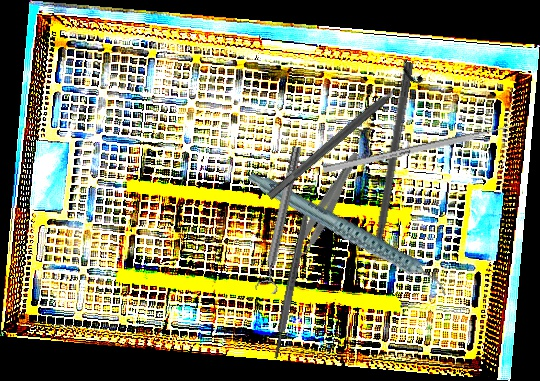Fixation Ring: (258, 58, 426, 208), (252, 144, 311, 295)
Handpiece: (245, 136, 451, 334)
Pusher: (322, 119, 527, 175), (364, 61, 415, 281)
Scalpel Handle: (271, 208, 312, 360)
Tissue Forceps: (286, 147, 364, 264)
